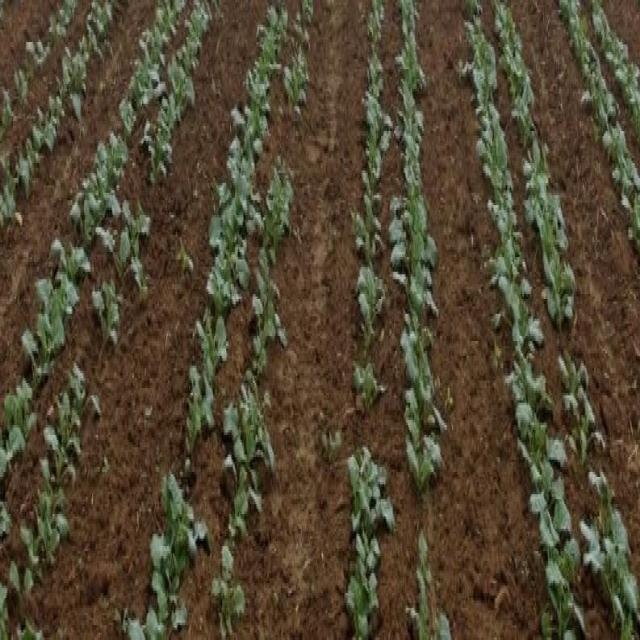row: (21, 0, 267, 639), (421, 0, 552, 640), (243, 0, 367, 640), (516, 1, 640, 591), (0, 0, 161, 409), (605, 0, 639, 71)
